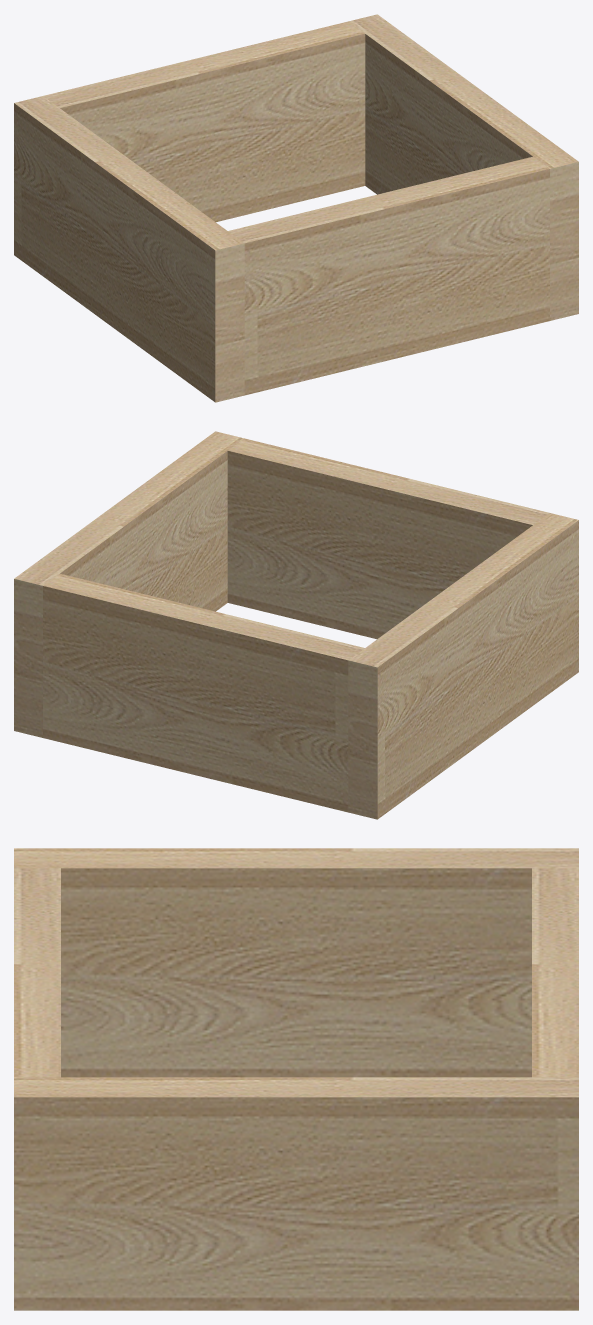
3 views of the same model, one above another, from view 1: azimuth 30°, elevation 25°; view 2: azimuth 150°, elevation 25°; view 3: azimuth 270°, elevation 25° (orthographic). The views are drawn at different scales.
Parts seen in each view (by area): view 1: Sokkel front_back.002; view 2: Sokkel front_back.002; view 3: Sokkel front_back.002.
Boxes of the visible parts, box(x1,y1,x2,y2) form: Sokkel front_back.002: box(14, 14, 578, 402); Sokkel front_back.002: box(14, 431, 578, 819); Sokkel front_back.002: box(14, 848, 578, 1310).
Size of the model in its own units: 0.25 by 0.1 by 0.24.
Materials: 1 (1 with a texture image).
